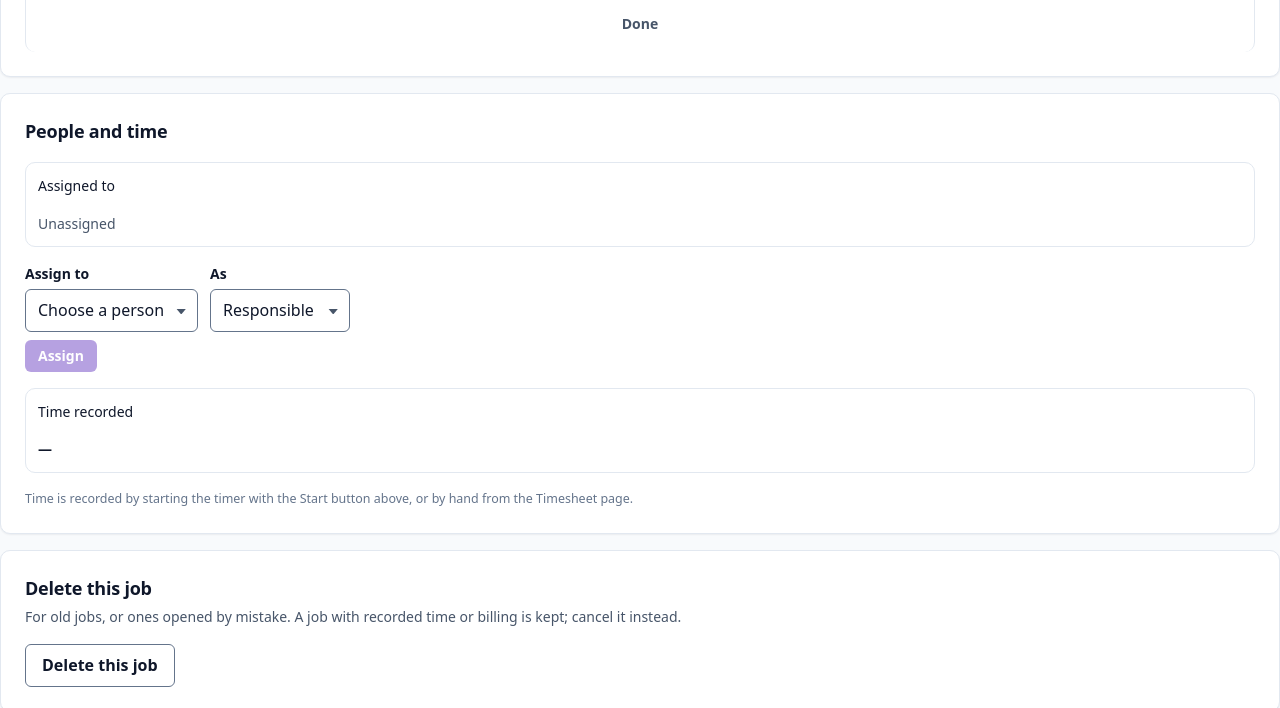
Scenario: who is on the job, and deleting it › says why a job with recorded time cannot be deleted
(page scrolled)
Click the button "Delete this job".
click(100, 666)  # box [25, 644, 175, 687]
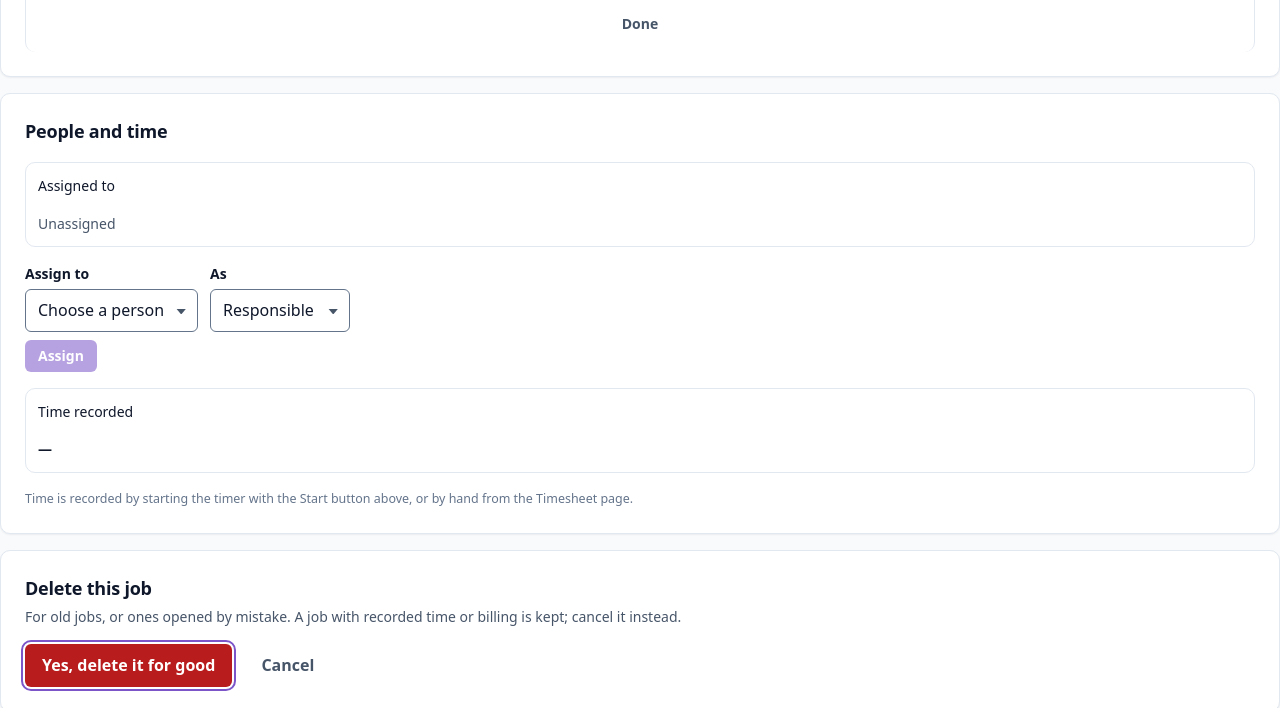
Click the button "Yes, delete it for good".
click(129, 666)  # box [25, 644, 232, 687]
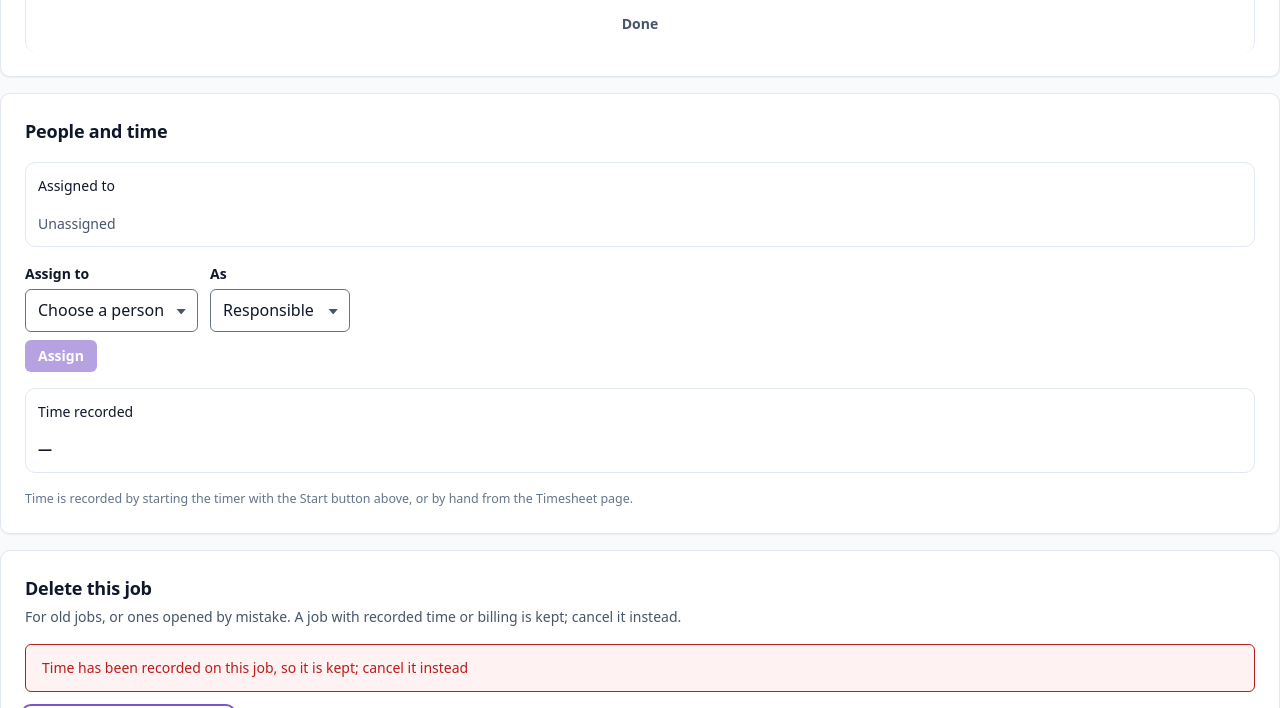
Result: the text "Time has been recorded on this job, so it is kept; cancel it instead" is shown at [25, 644, 1255, 692]
